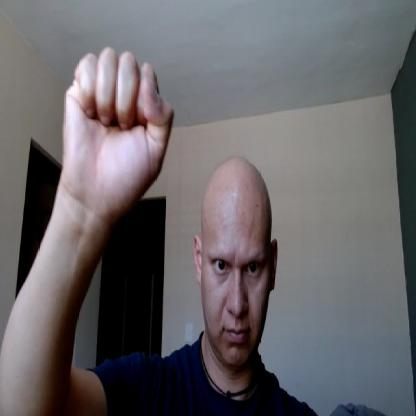S: (62, 46, 181, 202)
